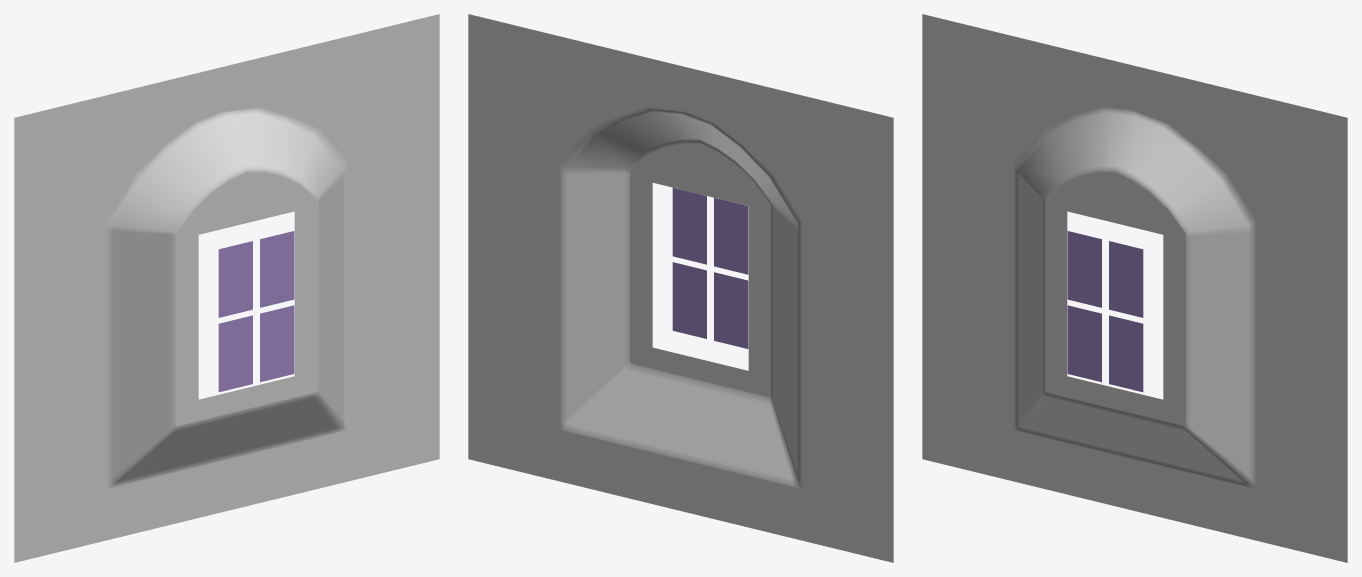
Rendered from window_d_inside_variant_a.fbx.
3 views of the same model, side by side, from view 1: azimuth 30°, elevation 25°; view 2: azimuth 150°, elevation 25°; view 3: azimuth 330°, elevation 25° (orthographic).
Visible parts, largest first — view 1: Plane.049, Plane.080; view 2: Plane.049, Plane.080; view 3: Plane.049, Plane.080.
Part boxes in pixels (x1,y1,x2,y2): Plane.049: [14, 14, 439, 562]; Plane.080: [218, 231, 294, 392]; Plane.049: [468, 14, 893, 562]; Plane.080: [672, 188, 748, 348]; Plane.049: [922, 14, 1347, 562]; Plane.080: [1067, 231, 1143, 392].
Bounding box in the file's own units: 5 × 5 × 0.6009.
